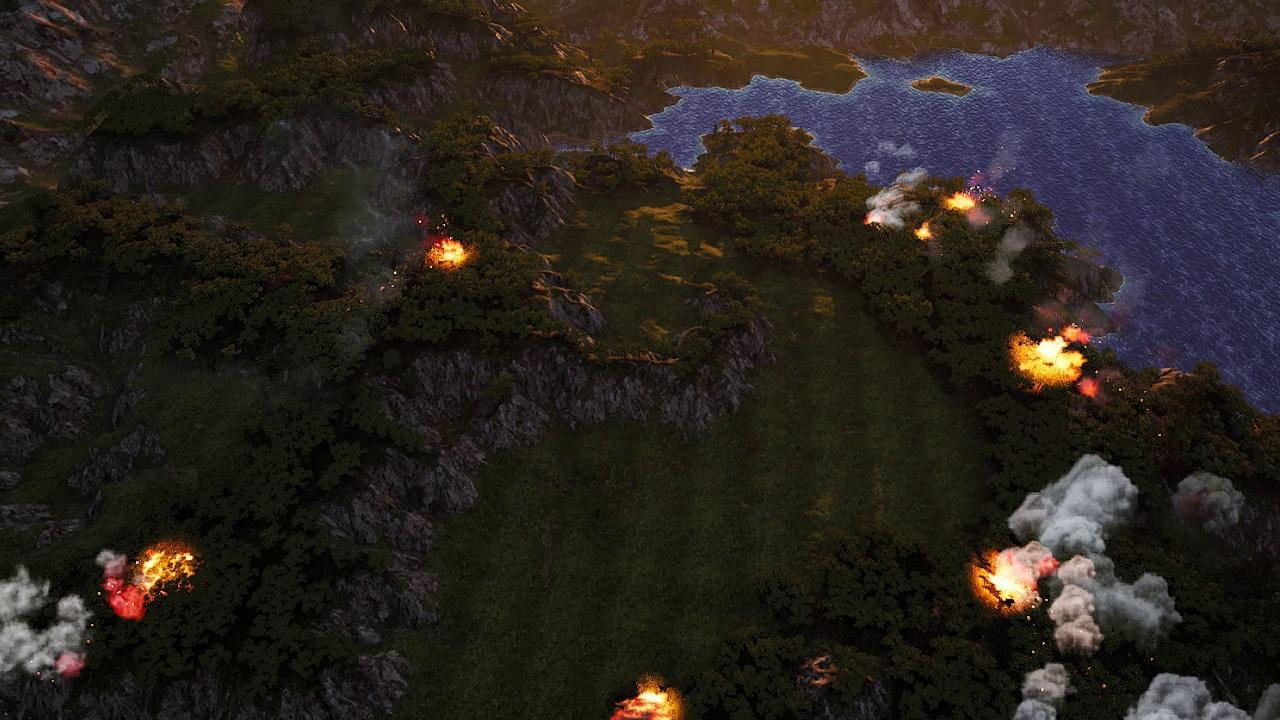fire: (974, 543, 1053, 611), (1018, 323, 1091, 389), (140, 544, 197, 595), (615, 687, 680, 720), (426, 234, 470, 268), (945, 194, 973, 212), (913, 221, 934, 242)
smoke: (998, 452, 1257, 641), (0, 567, 92, 687), (1125, 669, 1280, 720), (863, 139, 928, 230), (96, 549, 147, 622), (961, 138, 1021, 197), (1015, 661, 1070, 720), (983, 227, 1033, 288)
